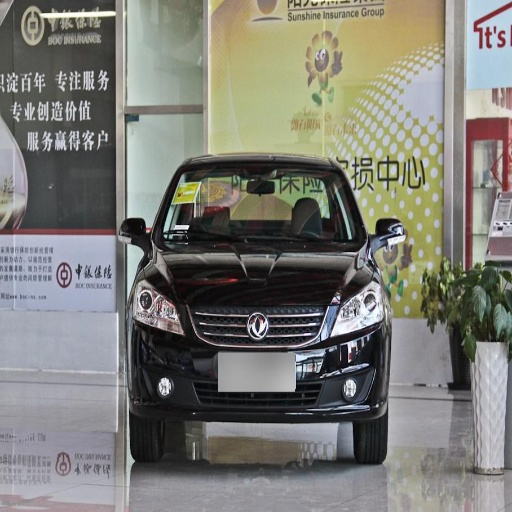front_bumper: (131, 305, 385, 424)
front_right_light: (135, 272, 184, 335)
hood: (158, 237, 372, 316)
